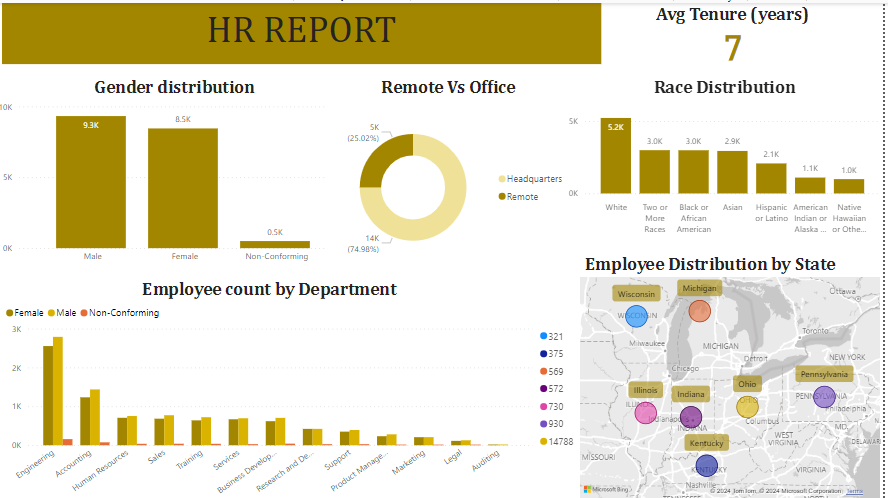

What the dashboard file says about the page in this screenshot:
{"tool":"powerbi","page":{"name":"Page 1","canvas":[1280,720],"ordinal":0},"visuals":[{"type":"textbox","box":[10.1,0,862.6,87.8],"z":0},{"type":"card","title":"Avg Tenure (years)","fields":{"Values":["Sum(Avg tenure.Column1)"]},"box":[884.2,0,355.7,87.8],"z":1000},{"type":"columnChart","title":"Gender distribution ","fields":{"Category":["Gender distribution.Column1"],"Y":["Sum(Gender distribution.Column2)"]},"box":[0,105.1,517,277.9],"z":2000},{"type":"clusteredColumnChart","title":"Employee count by Department","fields":{"Category":["Gender-departments.Column1"],"Y":["Sum(Gender-departments.Column3)"],"Series":["Gender-departments.Column2"]},"box":[10.1,396.4,769.3,324.2],"z":3000},{"type":"donutChart","title":"Remote Vs Office","fields":{"Category":["remote- in office.Column1"],"Y":["Sum(remote- in office.Column2)"]},"box":[475.2,105.1,355.7,290.9],"z":4000},{"type":"map","title":"Employee Distribution by State","fields":{"Category":["state distribution.Column1"],"Series":["state distribution.Column2"]},"box":[779,360,501.1,360],"z":5000},{"type":"columnChart","title":"Race Distribution","fields":{"Category":["Race distribution.Column1"],"Y":["Sum(Race distribution.Column2)"]},"box":[820.8,105.1,459.4,236.2],"z":6000}]}

Visuals, with their boxes in screenshot pixels (x1, y1, x2, y2), scaled from the page's 1280x720 canvas onto the 888x498 screenshot:
textbox: (left=7, top=0, right=605, bottom=61)
"Avg Tenure (years)" card: (left=613, top=0, right=860, bottom=61)
"Gender distribution " columnChart: (left=0, top=73, right=359, bottom=265)
"Employee count by Department" clusteredColumnChart: (left=7, top=274, right=541, bottom=497)
"Remote Vs Office" donutChart: (left=330, top=73, right=576, bottom=274)
"Employee Distribution by State" map: (left=540, top=249, right=887, bottom=497)
"Race Distribution" columnChart: (left=569, top=73, right=887, bottom=236)
